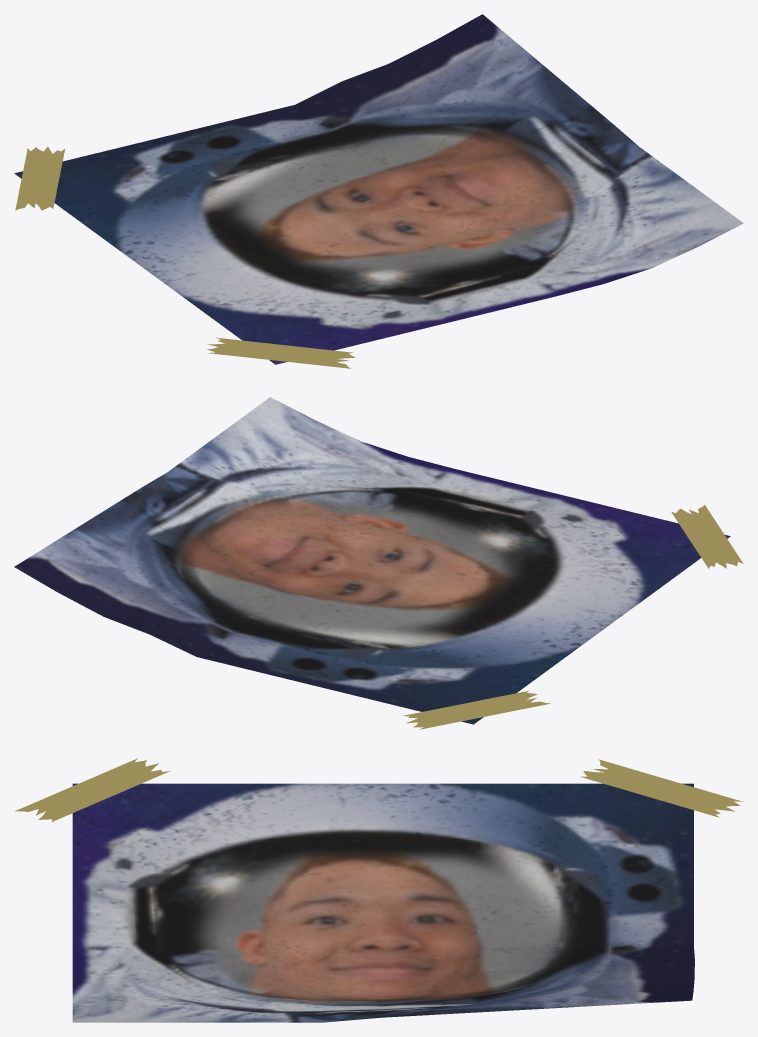
File: poster2.fbx
3 views of the same model, one above another, from view 1: azimuth 30°, elevation 25°; view 2: azimuth 150°, elevation 25°; view 3: azimuth 270°, elevation 25° (orthographic). The views are drawn at different scales.
Visible parts, largest first — view 1: Paper.001, Tape L.001, Tape R.001; view 2: Paper.001, Tape R.001, Tape L.001; view 3: Paper.001, Tape R.001, Tape L.001.
Part boxes in pixels (x1=…): Paper.001: x1=14, y1=14, x2=743, y2=364; Tape L.001: x1=207, y1=337, x2=355, y2=368; Tape R.001: x1=15, y1=146, x2=64, y2=210; Paper.001: x1=14, y1=397, x2=730, y2=724; Tape R.001: x1=403, y1=691, x2=550, y2=729; Tape L.001: x1=671, y1=505, x2=743, y2=568; Paper.001: x1=72, y1=783, x2=694, y2=1022; Tape R.001: x1=580, y1=759, x2=742, y2=817; Tape L.001: x1=14, y1=758, x2=169, y2=821.
Bounding box in the file's own units: 265 × 22.68 × 277.
